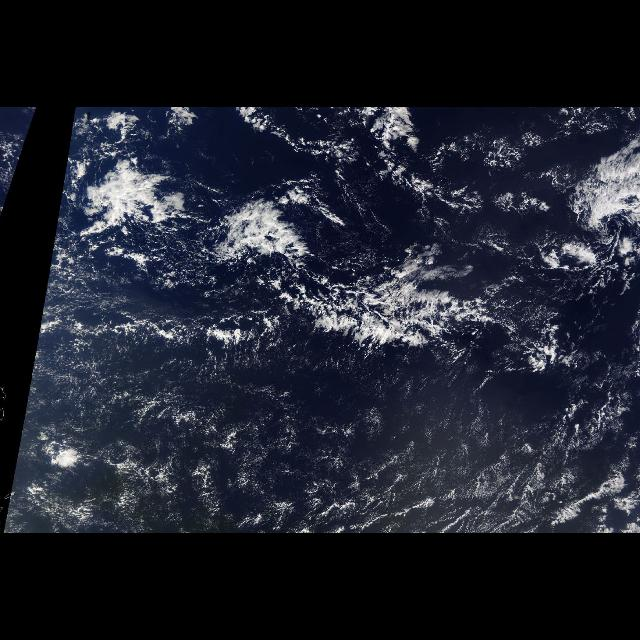Fish: (82, 168, 548, 380)
Sugar: (221, 383, 594, 532)
